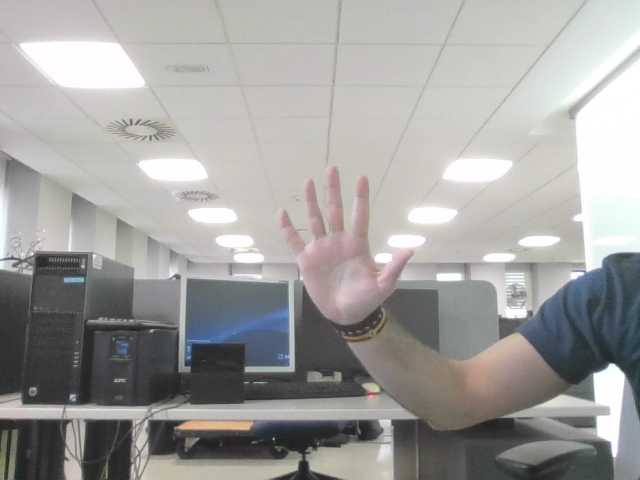Mano Abierta: (288, 178, 401, 300)
